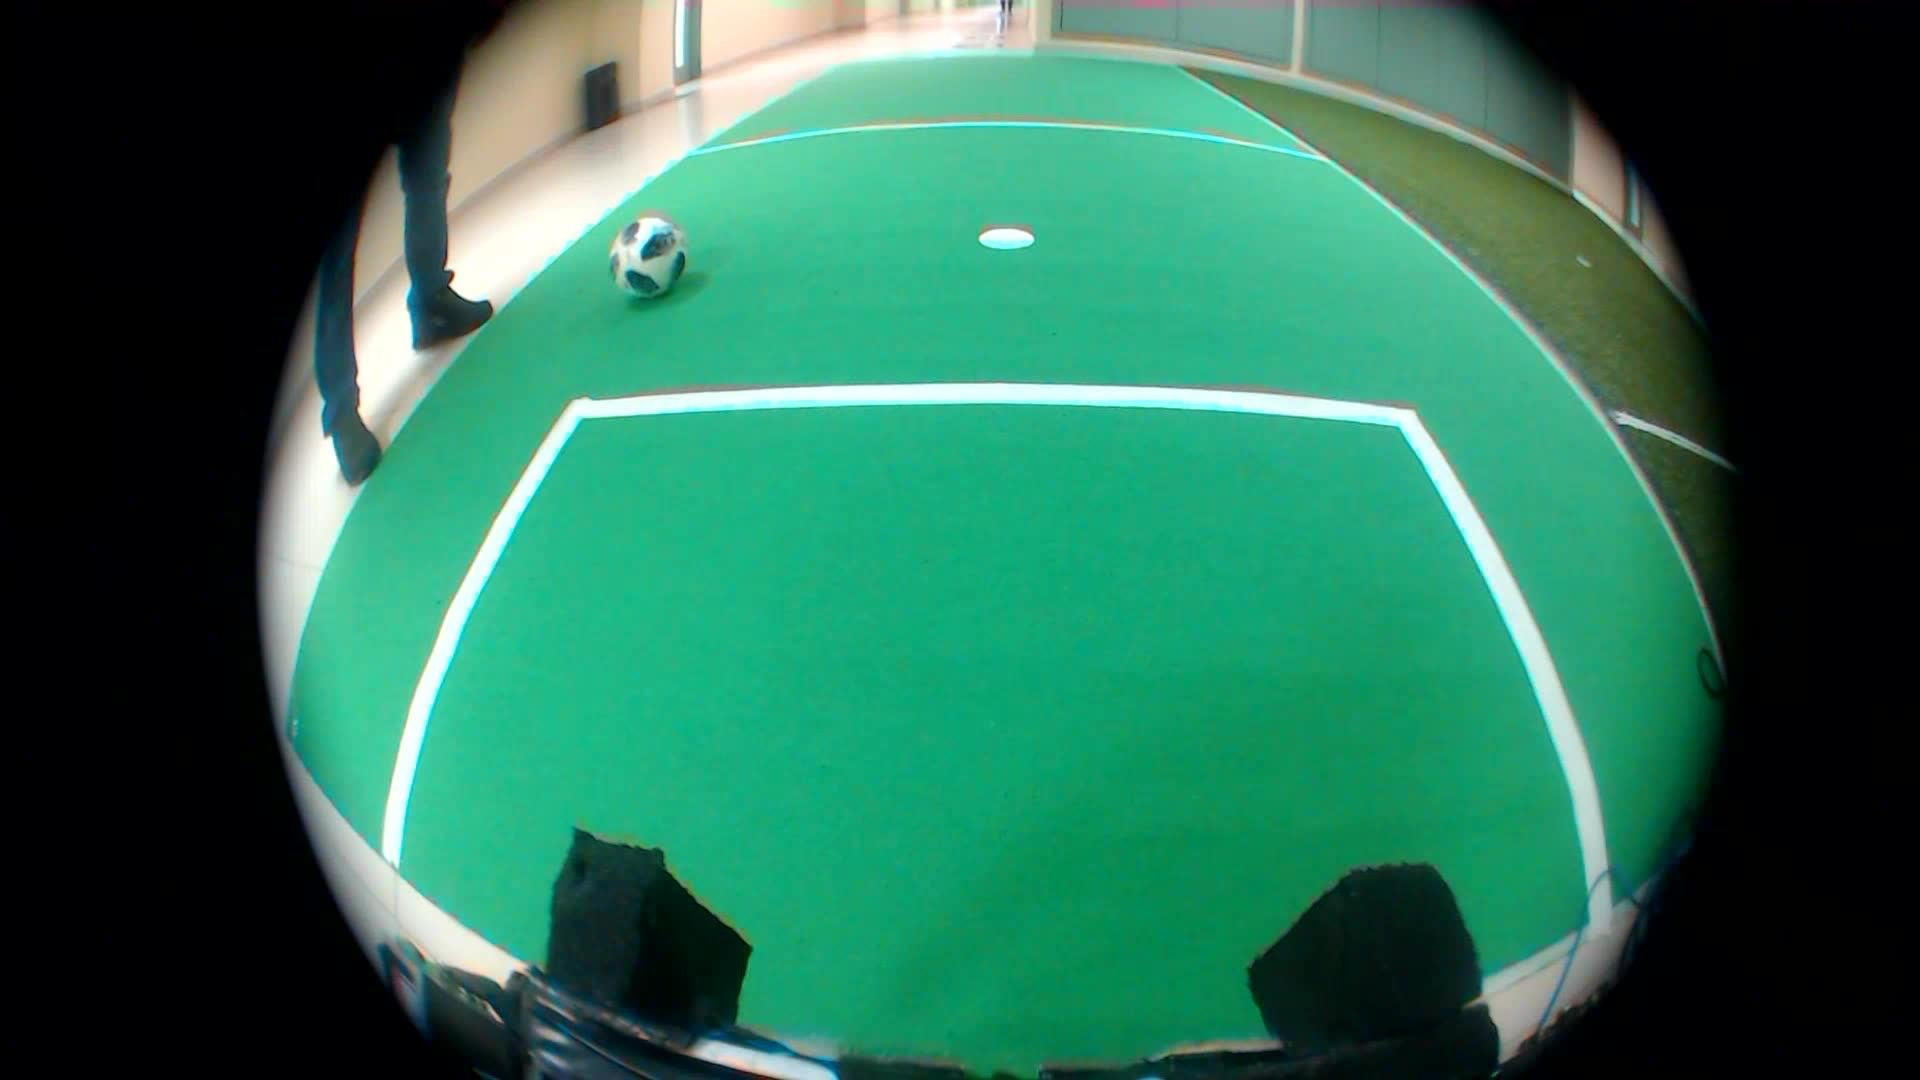ball: (599, 206, 691, 301)
